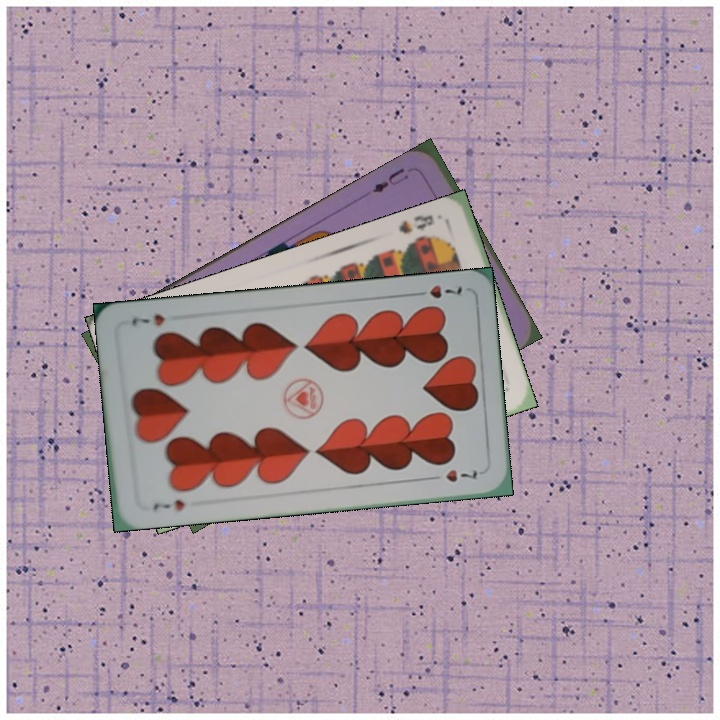EU: (368, 164, 411, 196)
H7: (408, 281, 466, 301), (149, 495, 187, 513)
S8: (394, 210, 437, 237)
